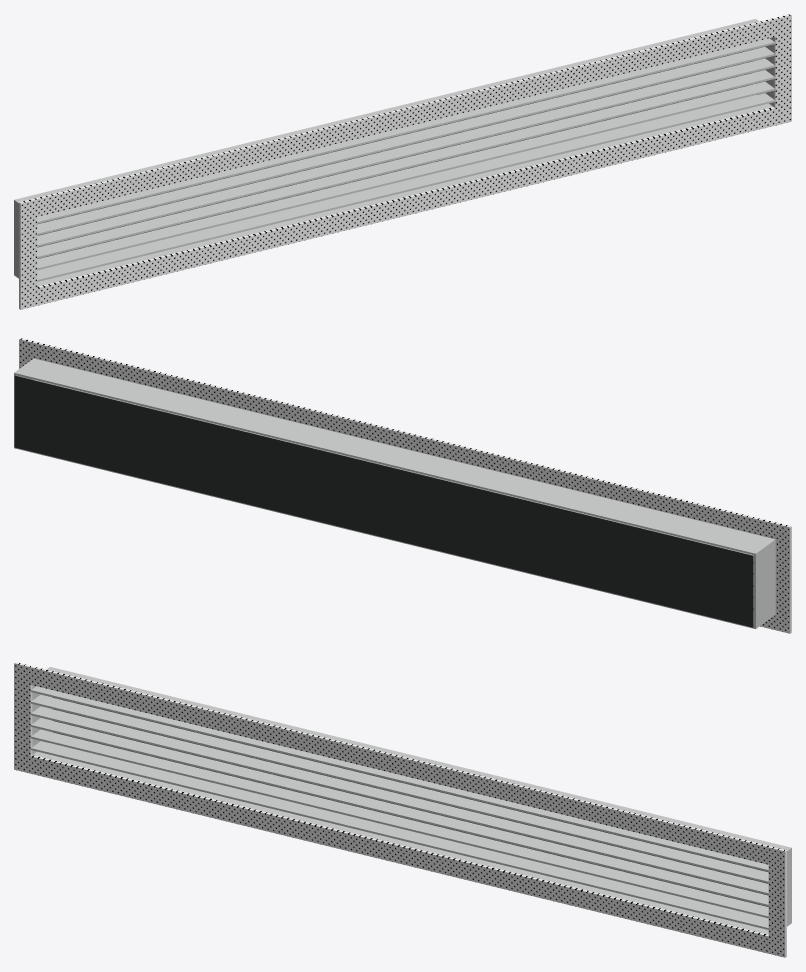
Rendered from ecoclima-ebls-800x75.glb.
3 views of the same model, one above another, from view 1: azimuth 30°, elevation 25°; view 2: azimuth 150°, elevation 25°; view 3: azimuth 330°, elevation 25° (orthographic).
Parts seen in each view (by area): view 1: Profile_cornice, Profile_cornice.001, Profile_barra, Profile_barra.001, Profile_barra.003, Profile_barra.002, Profile_barra.004, Profile_barra.005, Profile_ritorno.001, Profile_ritorno, Interno, Profile_cornice.002 (+1 smaller); view 2: Interno, Profile_ritorno, Profile_cornice, Profile_ritorno.002, Profile_ritorno.001, Profile_cornice.002, Profile_barra.004; view 3: Profile_cornice, Profile_cornice.001, Profile_barra, Profile_barra.001, Profile_barra.003, Profile_barra.002, Profile_barra.004, Profile_barra.005, Profile_ritorno.001, Profile_ritorno, Interno, Profile_cornice.003 (+1 smaller).
Part boxes in pixels (x1,y1,x2,y2): Profile_cornice: (19, 14, 791, 220); Profile_cornice.001: (19, 104, 791, 309); Profile_barra: (37, 93, 774, 281); Profile_barra.001: (37, 81, 774, 270); Profile_barra.003: (37, 58, 774, 246); Profile_barra.002: (37, 70, 774, 258); Profile_barra.004: (37, 47, 774, 235); Profile_barra.005: (37, 38, 774, 223); Profile_ritorno.001: (14, 95, 773, 286); Profile_ritorno: (14, 19, 759, 204); Interno: (37, 49, 753, 258); Profile_cornice.002: (19, 217, 37, 292); Interno: (14, 375, 753, 627); Profile_ritorno: (14, 358, 775, 555); Profile_cornice: (19, 338, 791, 544); Profile_ritorno.002: (754, 541, 775, 627); Profile_ritorno.001: (14, 446, 775, 628); Profile_cornice.002: (775, 541, 791, 616); Profile_barra.004: (33, 379, 753, 563); Profile_cornice: (14, 662, 786, 868); Profile_cornice.001: (14, 752, 786, 957); Profile_barra: (31, 741, 768, 929); Profile_barra.001: (31, 729, 768, 918); Profile_barra.003: (31, 706, 768, 894); Profile_barra.002: (31, 718, 768, 906); Profile_barra.004: (31, 695, 768, 883); Profile_barra.005: (31, 686, 768, 871); Profile_ritorno.001: (32, 743, 791, 934); Profile_ritorno: (46, 667, 791, 852); Interno: (52, 697, 768, 906); Profile_cornice.003: (768, 865, 786, 940).
Bounding box in the file's own units: 0.835 × 0.11 × 0.042.
3 materials, 1 textured.
